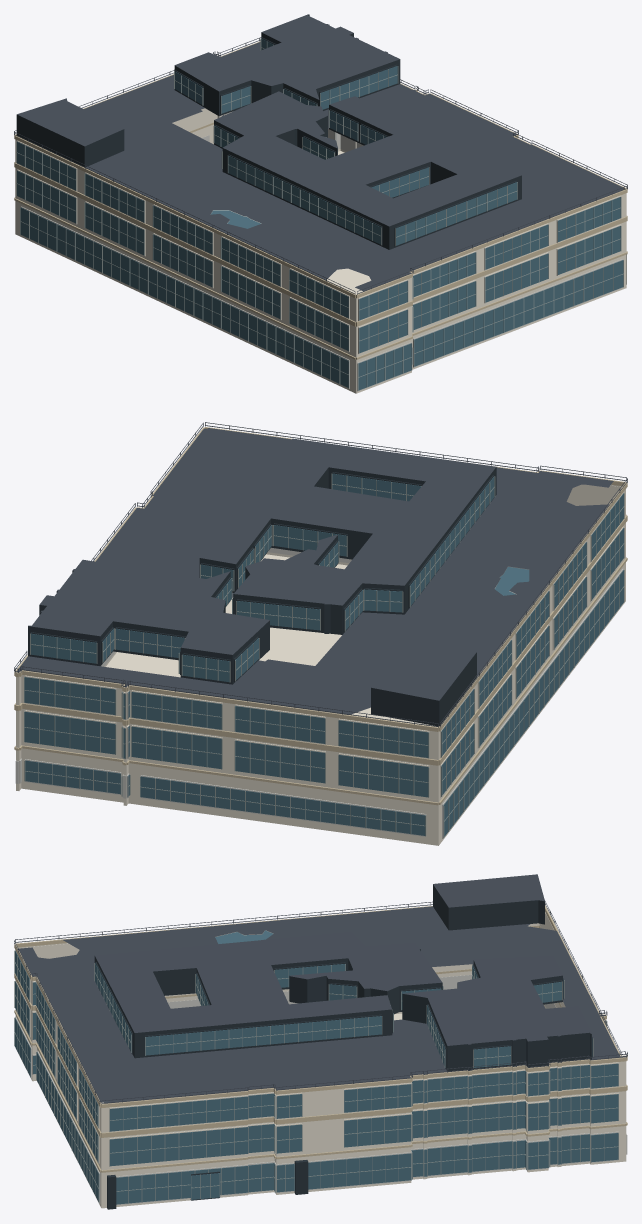
File: beta-boulders.glb
3 views of the same model, one above another, from view 1: azimuth 30°, elevation 25°; view 2: azimuth 150°, elevation 25°; view 3: azimuth 270°, elevation 25° (orthographic). The views are drawn at different scales.
Visible parts, largest first — view 1: beta-boulders; view 2: beta-boulders; view 3: beta-boulders.
Boxes of the visible parts, <box> form: beta-boulders: <box>14,14,627,393</box>; beta-boulders: <box>14,422,627,845</box>; beta-boulders: <box>14,874,627,1209</box>.
Size of the model in its own units: 64.92 by 18.88 by 80.28.
